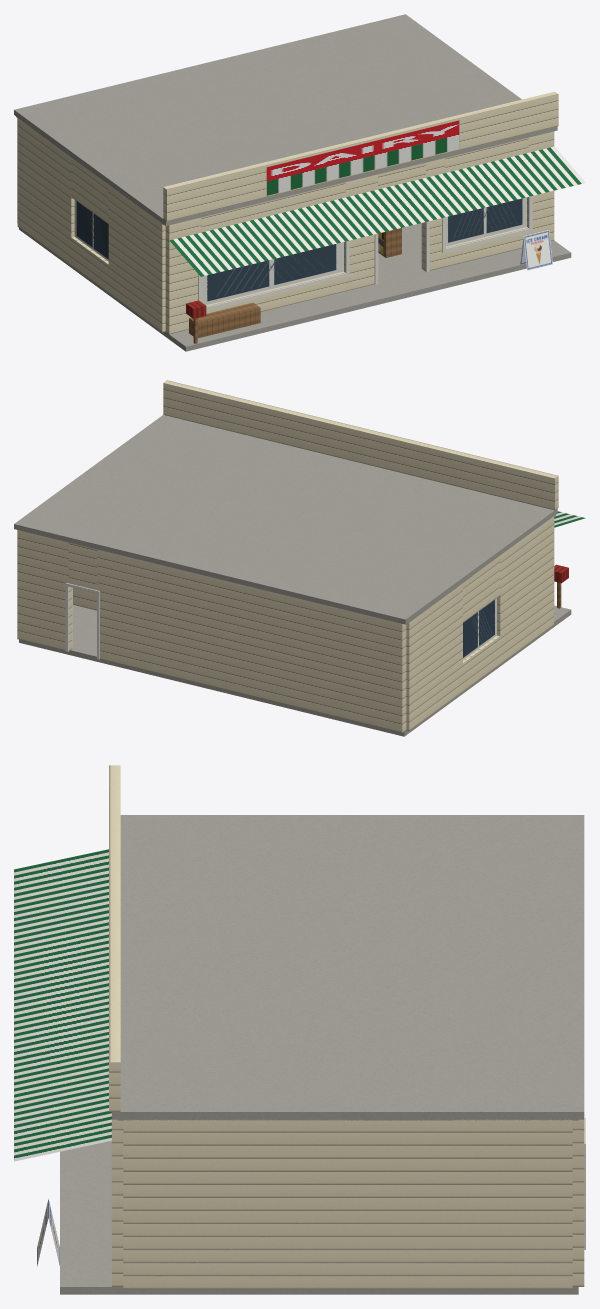
The model's file is dairy.obj.
3 renders of one model, top to bottom at view 1: azimuth 30°, elevation 25°; view 2: azimuth 150°, elevation 25°; view 3: azimuth 270°, elevation 25°, orthographic. The views are drawn at different scales.
Visible parts, largest first — view 1: roof, walls, awning, floor, parapet, glass, sign, trim, bench, shelves, letterbox; view 2: roof, walls, parapet, floor, glass, trim; view 3: roof, walls, awning, floor, parapet, ceiling.
Boxes of the visible parts, x1,y1,x2,y2 form: roof: (14, 14, 557, 225); walls: (17, 118, 554, 334); awning: (169, 146, 585, 276); floor: (19, 223, 571, 351); parapet: (163, 91, 558, 221); glass: (74, 197, 526, 305); sign: (266, 120, 552, 270); trim: (198, 196, 532, 310); bench: (189, 302, 260, 338); shelves: (378, 228, 401, 257); letterbox: (186, 300, 206, 343); roof: (14, 415, 557, 624); walls: (17, 516, 554, 732); parapet: (163, 380, 558, 510); floor: (19, 605, 571, 736); glass: (463, 598, 496, 659); trim: (65, 583, 99, 659); roof: (112, 815, 584, 1119); walls: (112, 1119, 584, 1289); awning: (14, 849, 111, 1161); floor: (60, 1141, 578, 1294); parapet: (109, 765, 120, 1111); ceiling: (117, 1119, 578, 1120).
Size of the model in its own units: 12.2 by 4.5 by 9.93.
12 materials, 12 textured.
